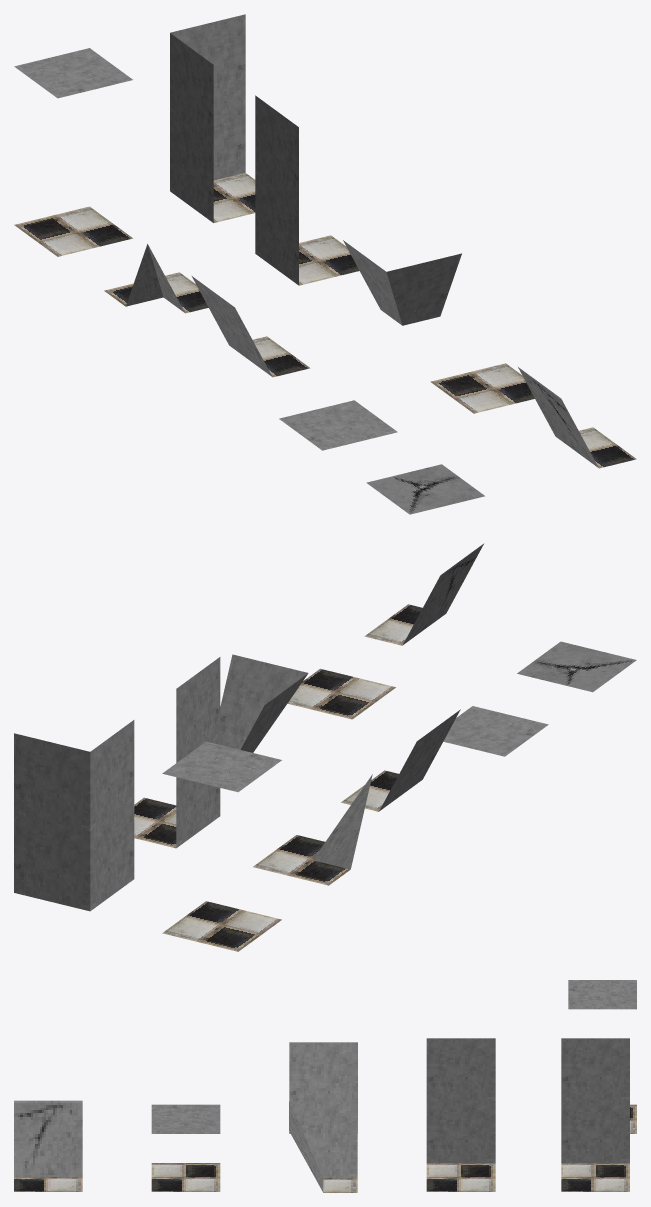
The model's file is tiles.glb.
The picture shows the model from 3 angles, top to bottom: view 1: azimuth 30°, elevation 25°; view 2: azimuth 150°, elevation 25°; view 3: azimuth 270°, elevation 25°; orthographic projection. The views are drawn at different scales.
Parts seen in each view (by area): view 1: wall-corner-col, wall-col, celing-col, inner-low-col, floor-3col, floor2-col, floor1-col, low2-col, low-col, outer-low-col; view 2: wall-corner-col, wall-col, celing-col, inner-low-col, outer-low-col, floor-3col, floor1-col, floor2-col, low2-col, low-col; view 3: wall-col, wall-corner-col, low2-col, inner-low-col, low-col, celing-col, floor2-col, floor1-col.
Part boxes in pixels (x1=…): wall-corner-col: x1=170, y1=14, x2=255, y2=222; wall-col: x1=255, y1=95, x2=359, y2=285; celing-col: x1=14, y1=48, x2=132, y2=256; inner-low-col: x1=343, y1=240, x2=461, y2=325; floor-3col: x1=366, y1=464, x2=484, y2=514; floor2-col: x1=279, y1=400, x2=397, y2=450; floor1-col: x1=430, y1=363, x2=534, y2=413; low2-col: x1=518, y1=367, x2=636, y2=468; low-col: x1=192, y1=276, x2=310, y2=377; outer-low-col: x1=104, y1=244, x2=208, y2=313; wall-corner-col: x1=14, y1=720, x2=134, y2=911; wall-col: x1=134, y1=657, x2=220, y2=848; celing-col: x1=162, y1=741, x2=281, y2=951; inner-low-col: x1=220, y1=654, x2=308, y2=752; outer-low-col: x1=253, y1=774, x2=372, y2=885; floor-3col: x1=517, y1=641, x2=636, y2=692; floor1-col: x1=287, y1=668, x2=395, y2=719; floor2-col: x1=443, y1=706, x2=548, y2=756; low2-col: x1=364, y1=543, x2=483, y2=645; low-col: x1=341, y1=709, x2=460, y2=811; wall-col: x1=426, y1=1038, x2=495, y2=1191; wall-corner-col: x1=561, y1=1038, x2=629, y2=1191; low2-col: x1=14, y1=1100, x2=82, y2=1191; inner-low-col: x1=289, y1=1101, x2=357, y2=1192; low-col: x1=289, y1=1042, x2=357, y2=1133; celing-col: x1=568, y1=980, x2=636, y2=1133; floor2-col: x1=151, y1=1104, x2=220, y2=1133; floor1-col: x1=151, y1=1163, x2=220, y2=1191.
Size of the model in its own units: 3 by 2.01 by 9.06.
Materials: 1 (1 with a texture image).
